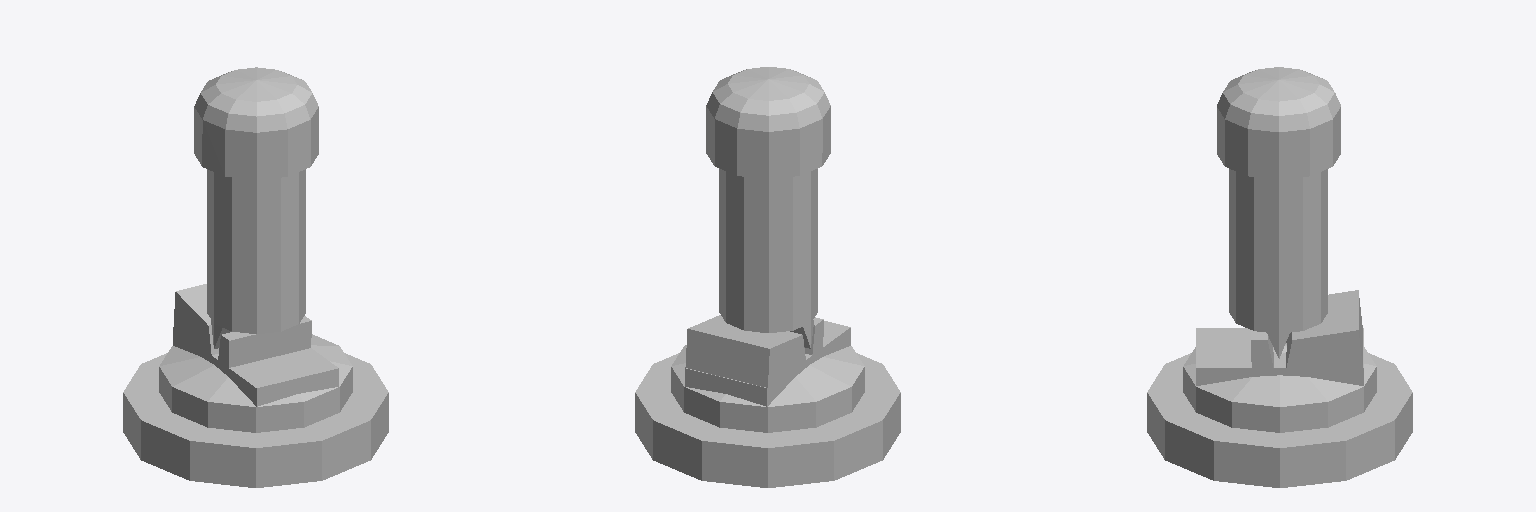
File: Switch_Smoke - Normal.obj
3 renders of one model, left to right at view 1: azimuth 30°, elevation 25°; view 2: azimuth 150°, elevation 25°; view 3: azimuth 270°, elevation 25°, orthographic.
Visible parts, largest first — view 1: Switch, LockNut, SwitchBase, Slider, LockTine; view 2: Switch, LockNut, SwitchBase, LockTine, Slider; view 3: Switch, LockNut, SwitchBase, LockTine, Slider.
Boxes of the visible parts, x1,y1,x2,y2 form: Switch: [194, 67, 318, 348]; LockNut: [123, 353, 388, 487]; SwitchBase: [159, 334, 352, 432]; Slider: [173, 328, 338, 406]; LockTine: [173, 284, 311, 368]; Switch: [706, 67, 830, 348]; LockNut: [635, 353, 900, 487]; SwitchBase: [671, 345, 864, 432]; LockTine: [685, 315, 823, 387]; Slider: [685, 321, 850, 406]; Switch: [1217, 67, 1340, 358]; LockNut: [1147, 353, 1412, 487]; SwitchBase: [1183, 343, 1376, 432]; LockTine: [1251, 290, 1362, 369]; Slider: [1196, 328, 1363, 385].
Size of the model in its own units: 6 by 8.79 by 6.